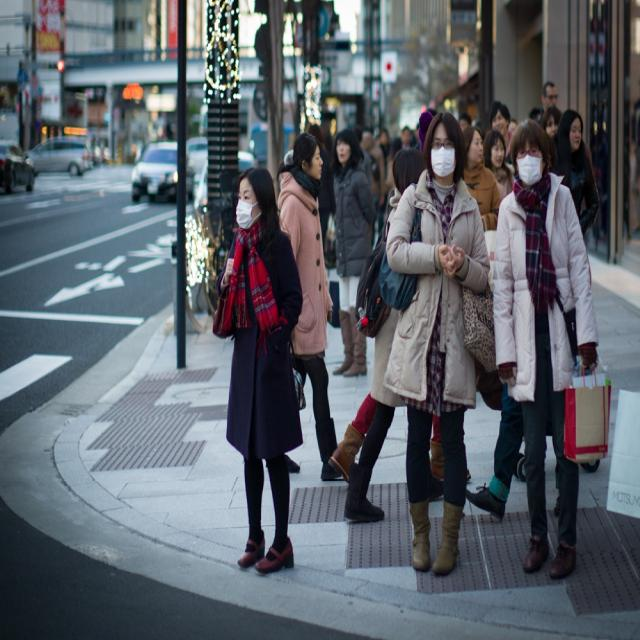body: (491, 116, 614, 583), (386, 102, 491, 580), (328, 143, 447, 490), (209, 163, 306, 574), (276, 132, 345, 483), (300, 97, 428, 255), (326, 126, 380, 380), (525, 114, 578, 346), (442, 77, 560, 137), (550, 106, 601, 240), (462, 123, 503, 234), (483, 127, 514, 200), (486, 98, 516, 164)
